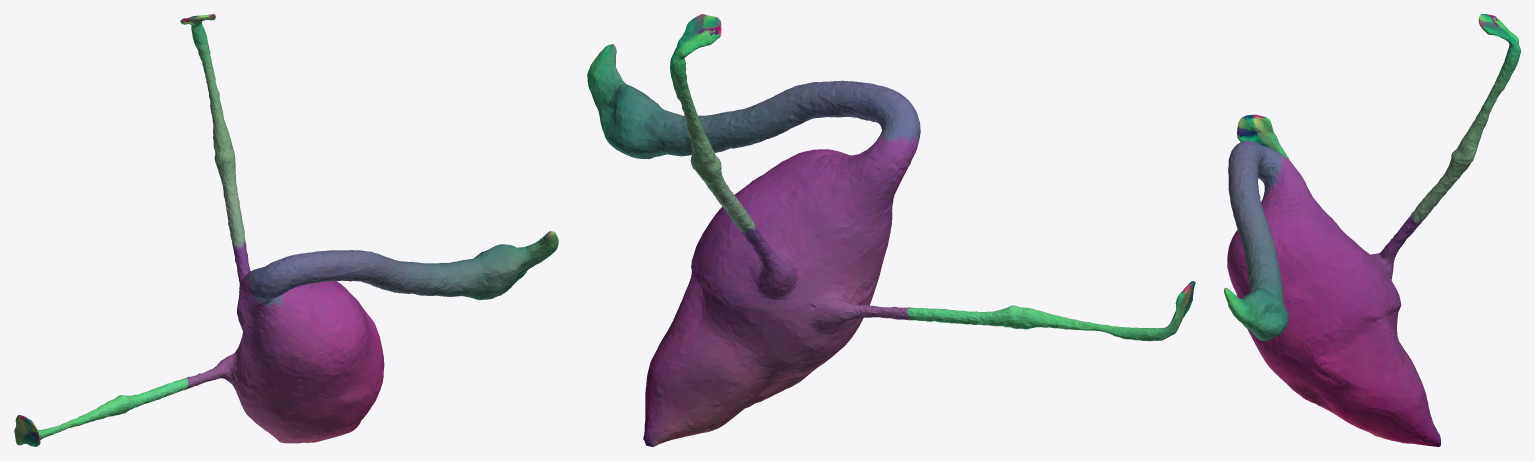
File: flamingo-3.off.obj
3 renders of one model, left to right at view 1: azimuth 30°, elevation 25°; view 2: azimuth 150°, elevation 25°; view 3: azimuth 270°, elevation 25°, orthographic. The views are drawn at different scales.
Size of the model in its own units: 1.48 by 1.09 by 0.7418.
